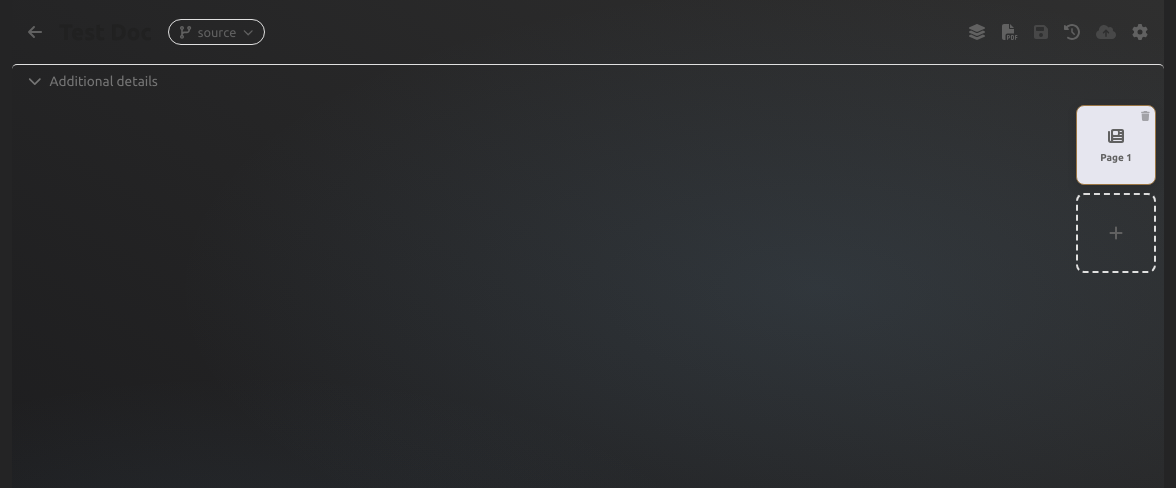
Test: SpellEditForm › saving state › adding a page is a change to save
Check: the element with test id "spell-edit-form" is shown, box top-left (12, 18), bottom-right (1164, 273)
Check: the button with test id "spell-edit-save-btn" is disabled, box top-left (1034, 24), bottom-right (1048, 40)
Click the element with test id "page-list-add-btn" at (1116, 233), box top-left (1076, 193), bottom-right (1156, 273)
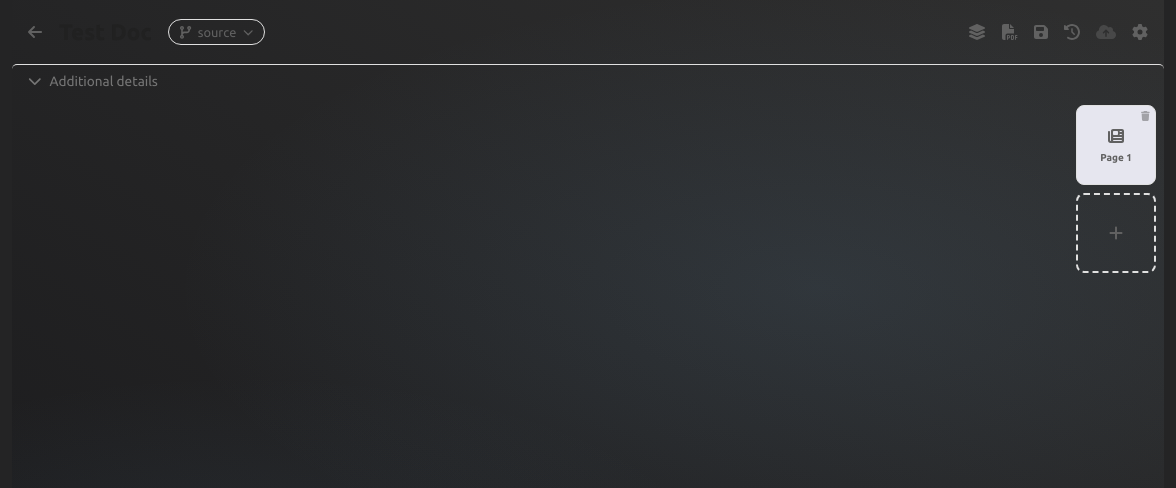
Check: the button with test id "spell-edit-save-btn" is enabled, box top-left (1034, 24), bottom-right (1048, 40)
